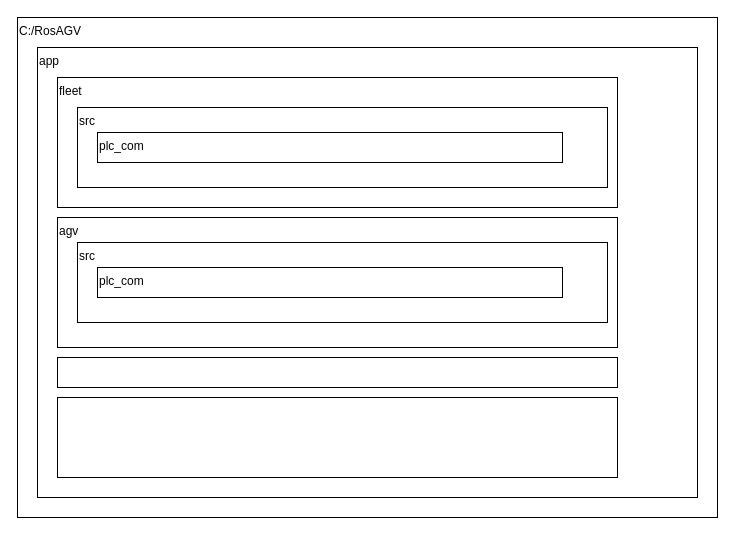
This 735x535 diagram has some shape labels left out. Here are the shapes that lost their labels. From the top down, the centre of each, then its label:
point (337, 372): rmf (未導入)
point (337, 437): launch AGVC執行 fleet + rmf(目前沒有) AGV執行 agv
